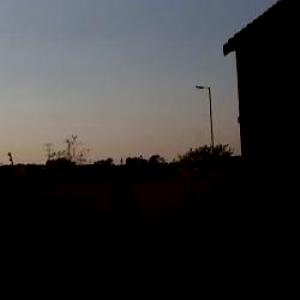follow: (98, 181, 160, 299)
